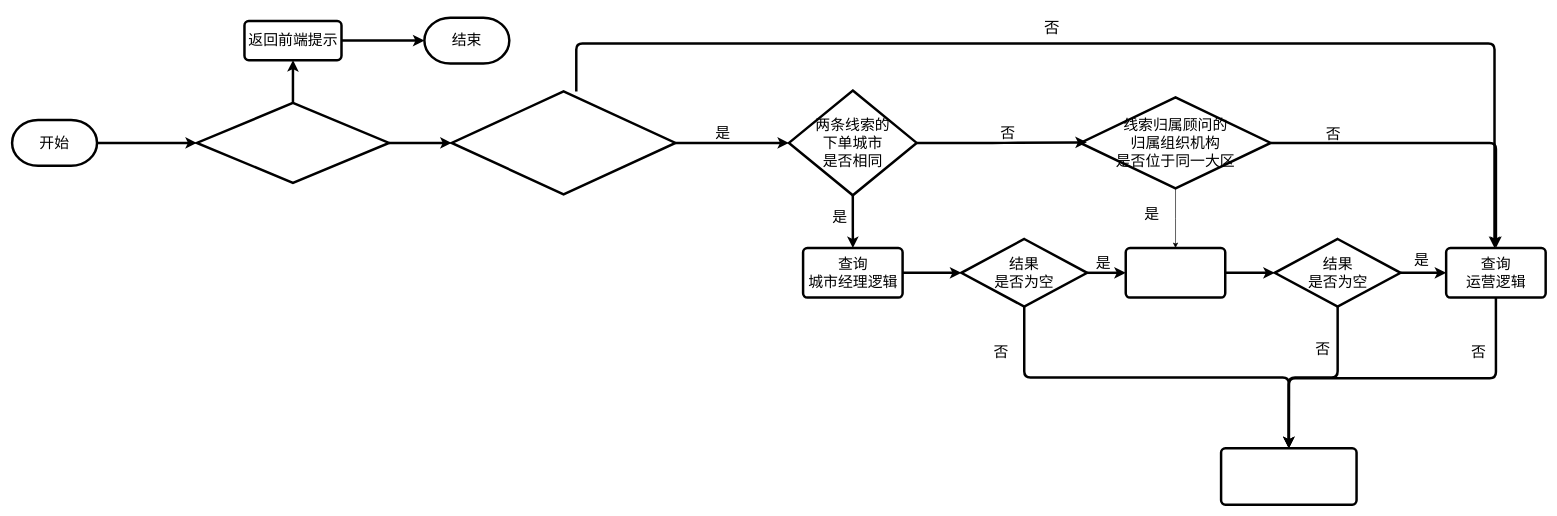
Image size: 1557x516. Some labels were removed from this diagram. The centre of each missing label's shape, as x and y in pixels:
两条线索的归属顾问 是否处于同一个销售架构下: the point at 563,142
判断线索归属顾问 配置: the point at 292,142
多个用户情况： 按照近七天申诉次数排序 取最少的: the point at 1288,476
查询 大区总逻辑: the point at 1175,272
